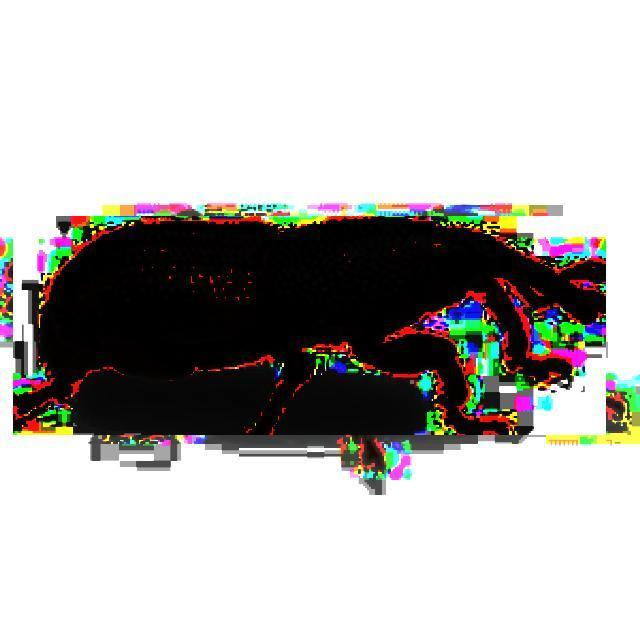rice-bug: (13, 216, 606, 435)
